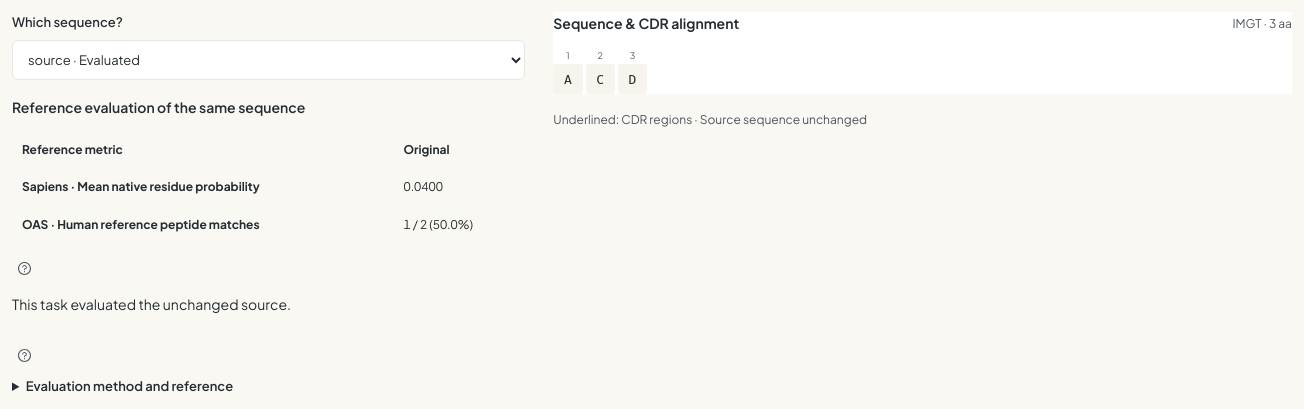
it: an evaluation-only result has no empty proposal column and selection does not leak into another task
Click the button named "Original · 1 · A".
click(568, 79)  # box [553,64,582,94]
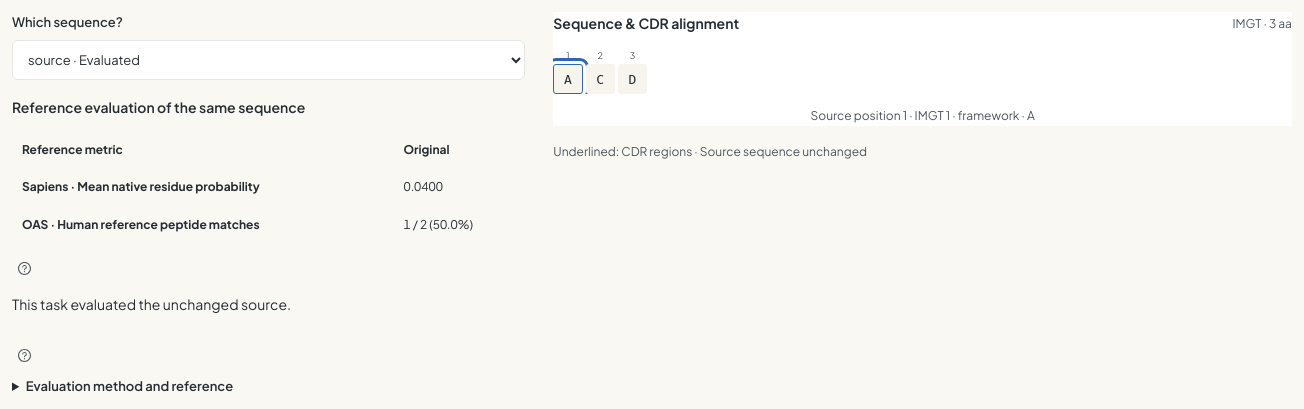
Expected: the text "Source position 1 · IMGT 1 · framework · A" is shown, [811,108,1035,123]
